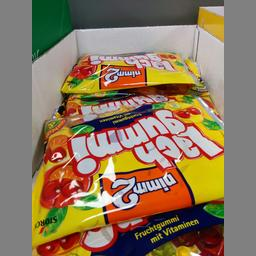candy: (30, 94, 223, 242), (60, 50, 196, 92)
